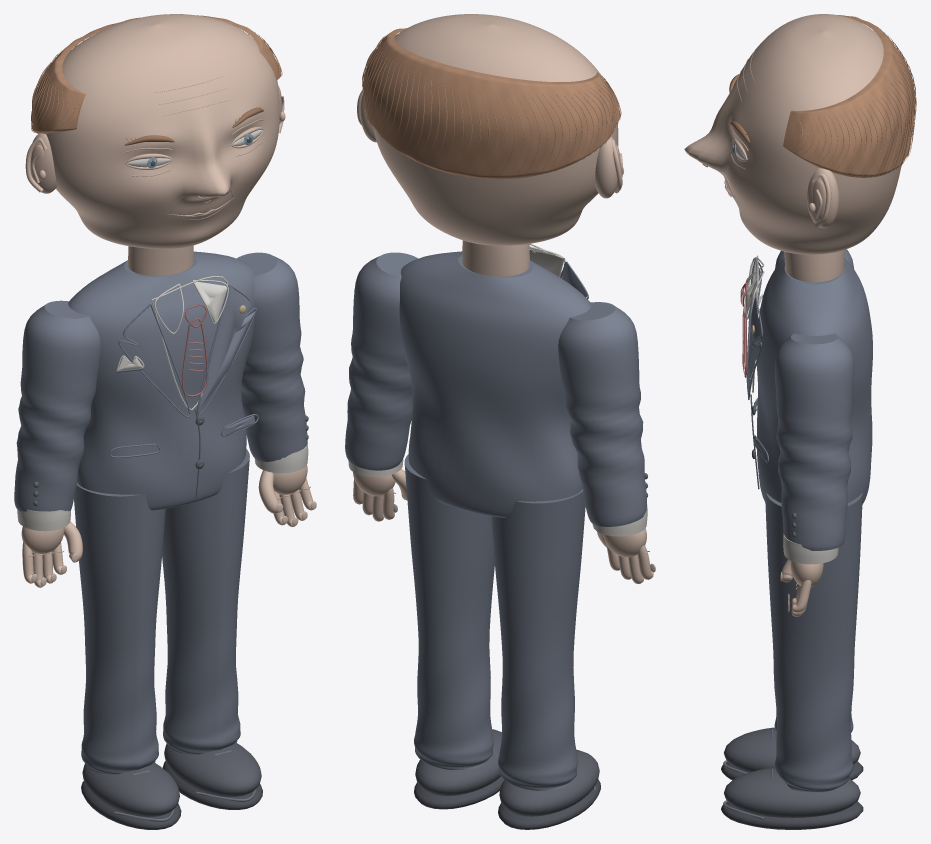
The model's file is neil_kinnock_1990_v2.glb.
3 renders of one model, left to right at view 1: azimuth 30°, elevation 25°; view 2: azimuth 150°, elevation 25°; view 3: azimuth 270°, elevation 25°, orthographic. The views are drawn at different scales.
Parts seen in each view (by area): view 1: Neil Kinnock; view 2: Neil Kinnock; view 3: Neil Kinnock.
Part boxes in pixels (box(x1,y1,x2,y2)): Neil Kinnock: box(14, 14, 316, 829); Neil Kinnock: box(345, 14, 655, 829); Neil Kinnock: box(684, 14, 916, 829).
Size of the model in its own units: 1.8 by 4.57 by 1.25.
